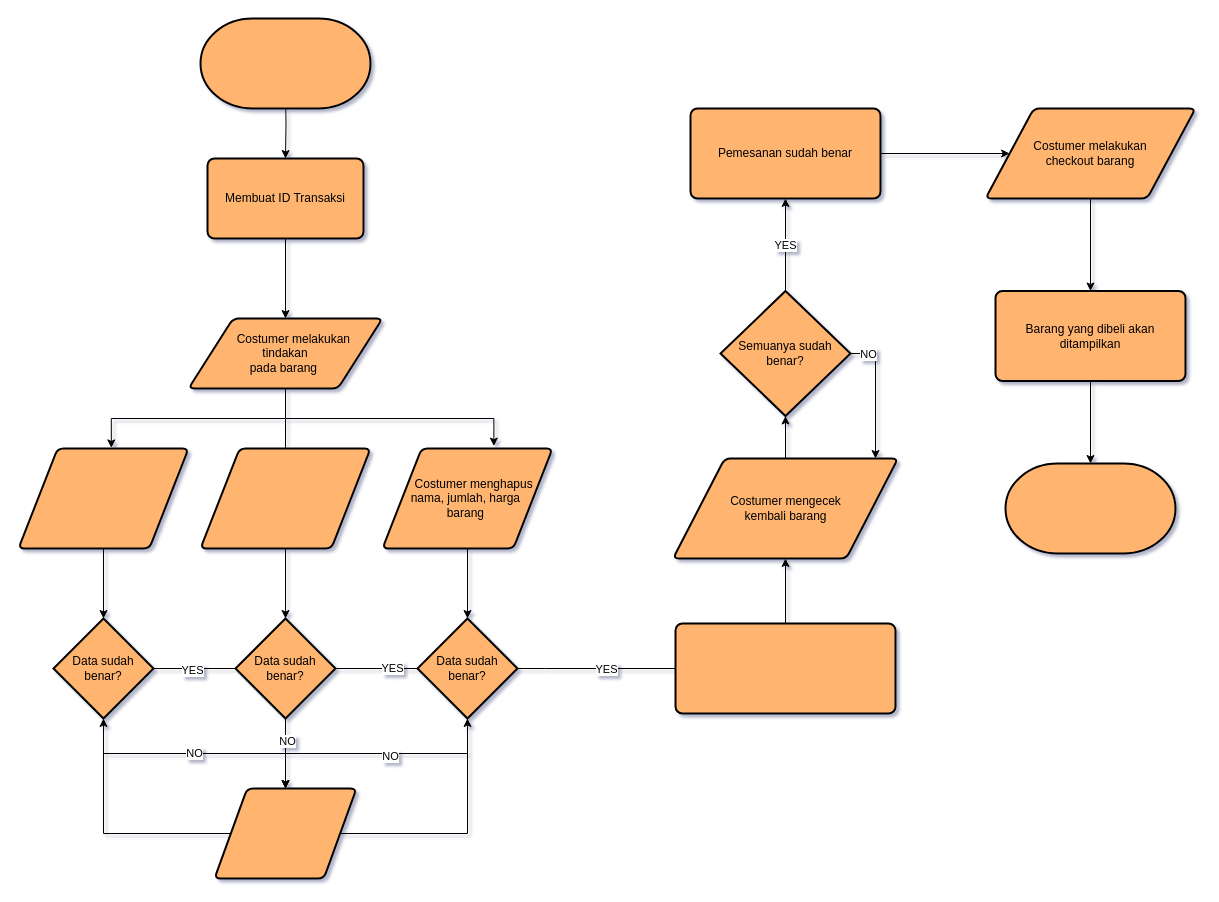
This 1219x902 diagram has some shape labels left out. Each missing label, with the box of its shape:
Costumer menginputkan nama, jumlah, harga barang: (17, 447, 189, 549)
Costumer mengupdate nama, jumlah, harga barang: (199, 447, 371, 549)
END: (1004, 462, 1176, 554)
Nama, jumlah dan harga barang sudah benar: (674, 622, 896, 714)
START: (199, 17, 371, 109)
Ulangi Kembali: (213, 787, 357, 879)
